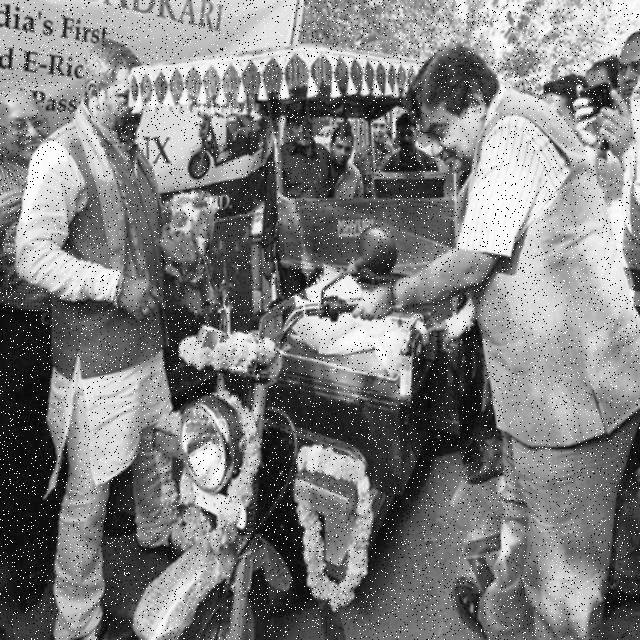Toto: (137, 37, 439, 640)
